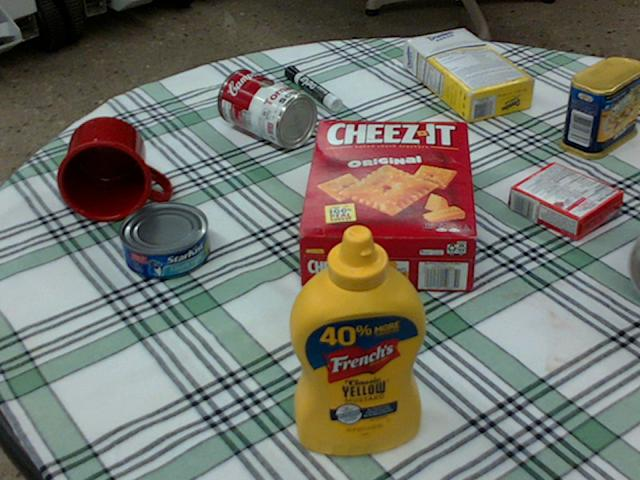cracker_box: (297, 120, 477, 291)
gelatin_box: (508, 161, 620, 237)
large_marker: (284, 64, 340, 109)
master_chef_can: (631, 241, 639, 290)
mug: (57, 116, 169, 221)
mustard_bottle: (290, 224, 427, 454)
potted_meat_can: (558, 57, 639, 158)
sugar_box: (404, 28, 536, 121)
tomato_soup_can: (216, 67, 316, 146)
tuna_fish_can: (116, 201, 208, 277)
